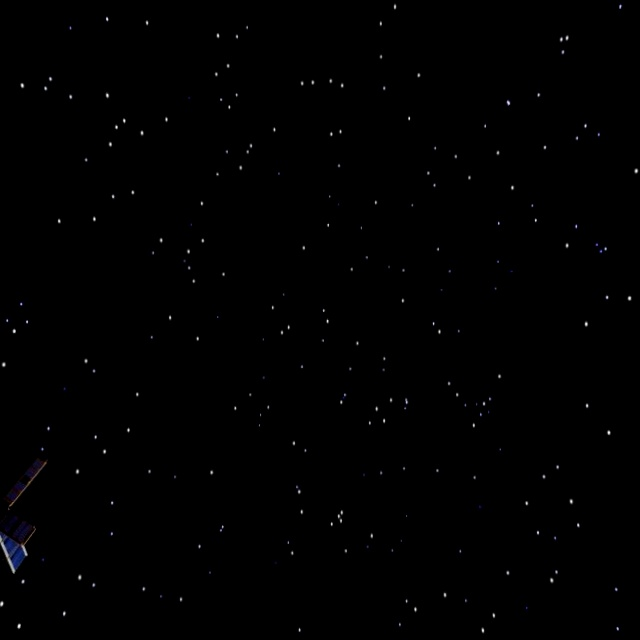satellite: (0, 447, 53, 585)
